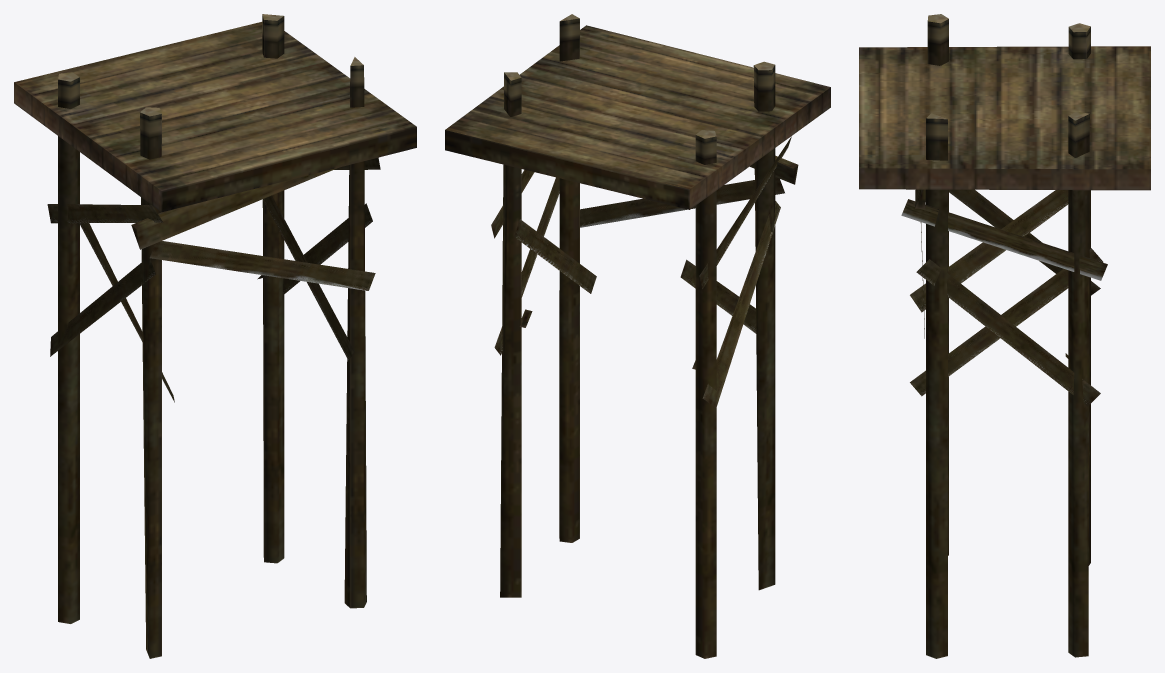
Rendered from nsm-general_obj_01_4_lod_01.fbx.
3 views of the same model, side by side, from view 1: azimuth 30°, elevation 25°; view 2: azimuth 150°, elevation 25°; view 3: azimuth 270°, elevation 25° (orthographic). The views are drawn at different scales.
Parts seen in each view (by area): view 1: Mesh03; view 2: Mesh03; view 3: Mesh03.
Boxes of the visible parts, bbox=[...] form: Mesh03: bbox=[14, 14, 416, 658]; Mesh03: bbox=[445, 14, 830, 658]; Mesh03: bbox=[859, 14, 1150, 658].
Bounding box in the file's own units: 5 × 10.44 × 5.
